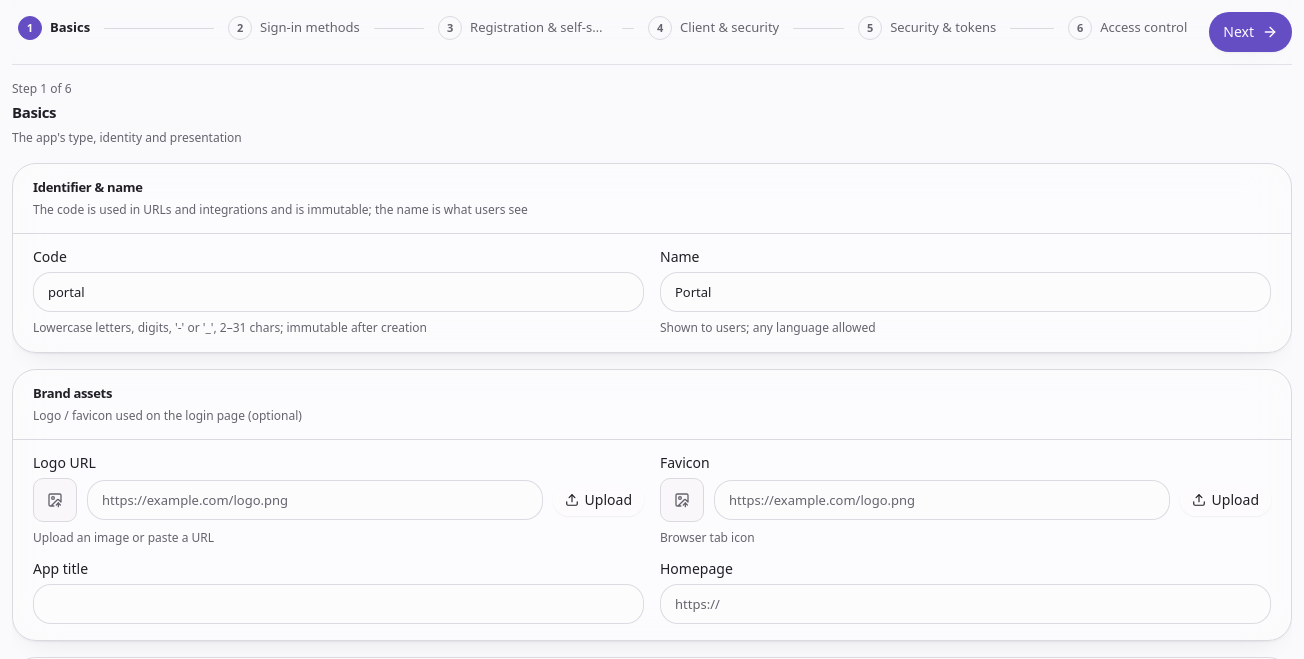
it: ApplicationWizard › 受限 + 空名单：只给引导空态、不阻止提交（Spec Q4）
Step 1. Click the button "6 Access control" → (1128, 28), box [1062, 12, 1193, 44]
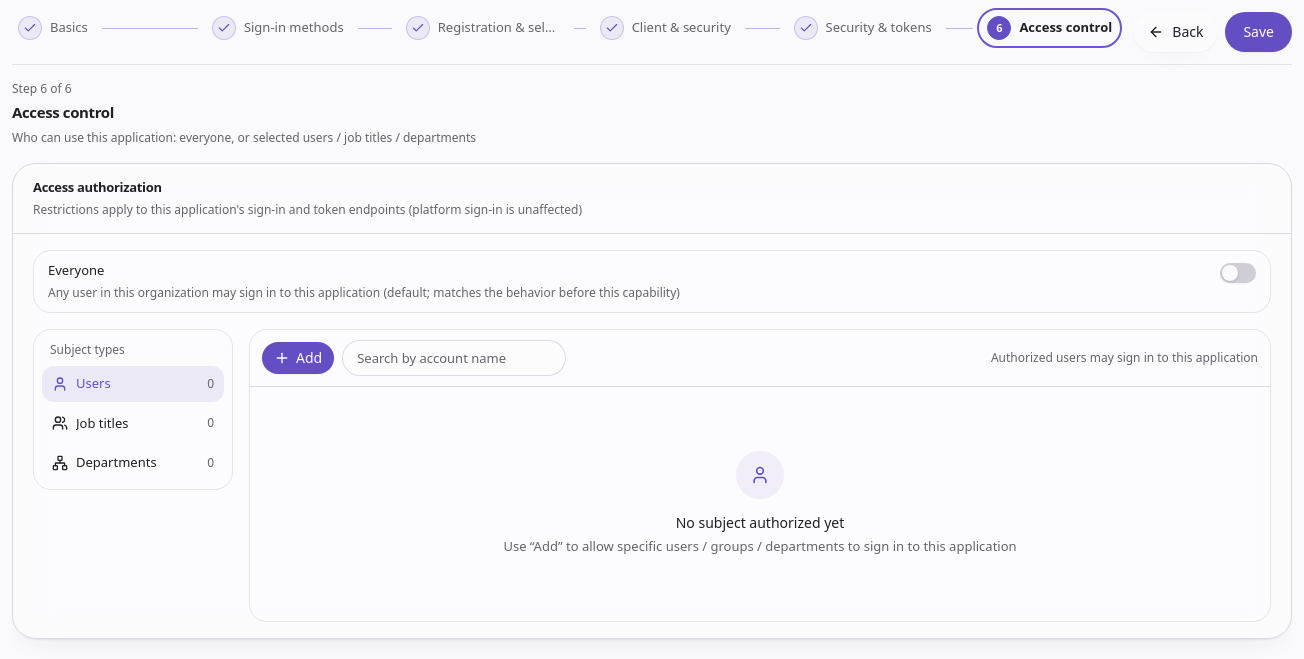
expect the text "No subject authorized yet" is shown: met, box [676, 513, 844, 532]
expect the text "Users" is shown: met, box [76, 374, 111, 394]
expect the text "Job titles" is shown: met, box [76, 414, 128, 433]
